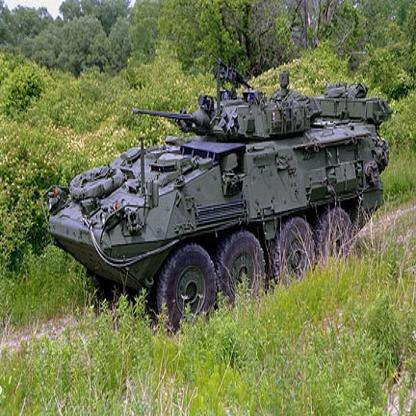Tank: (43, 75, 391, 332)
